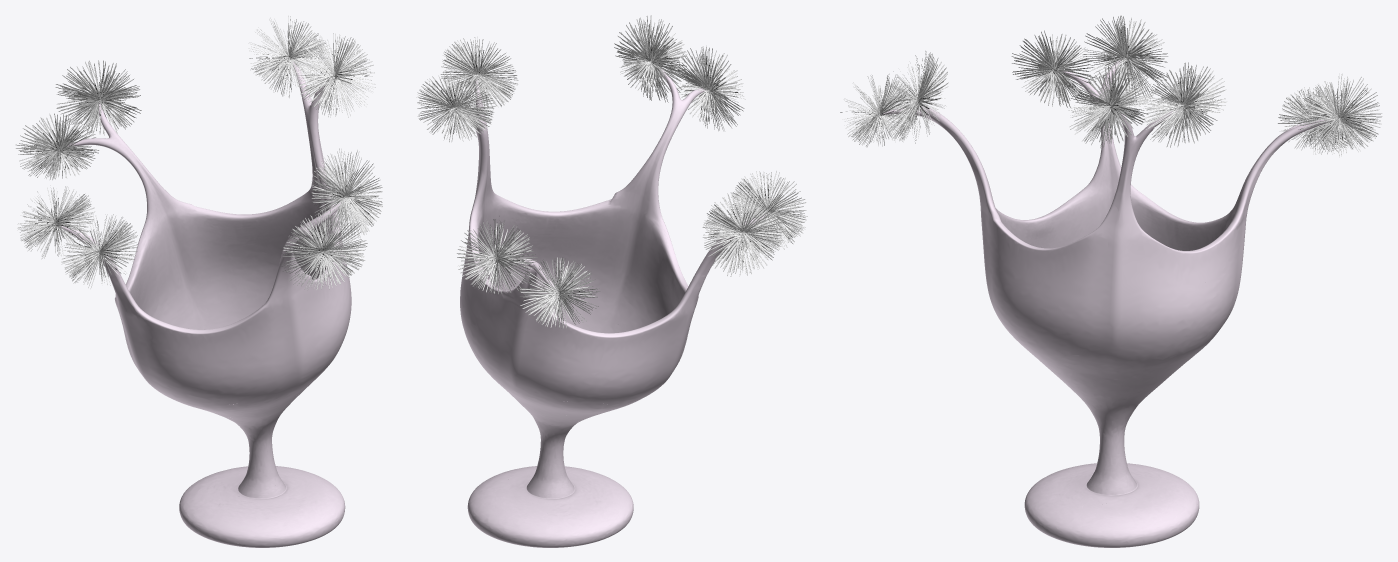
The picture shows the model from 3 angles, left to right: view 1: azimuth 30°, elevation 25°; view 2: azimuth 150°, elevation 25°; view 3: azimuth 270°, elevation 25°; orthographic projection. The views are drawn at different scales.
Parts seen in each view (by area): view 1: Object_2, Object_3; view 2: Object_2, Object_3; view 3: Object_2, Object_3.
Boxes of the visible parts, bbox=[...] form: Object_2: bbox=[56, 62, 351, 547]; Object_3: bbox=[16, 16, 382, 290]; Object_2: bbox=[460, 69, 766, 547]; Object_3: bbox=[416, 15, 807, 328]; Object_2: bbox=[881, 59, 1331, 547]; Object_3: bbox=[840, 15, 1381, 156].
Size of the model in its own units: 3.23 by 4.15 by 4.21.
2 materials, 2 textured.
